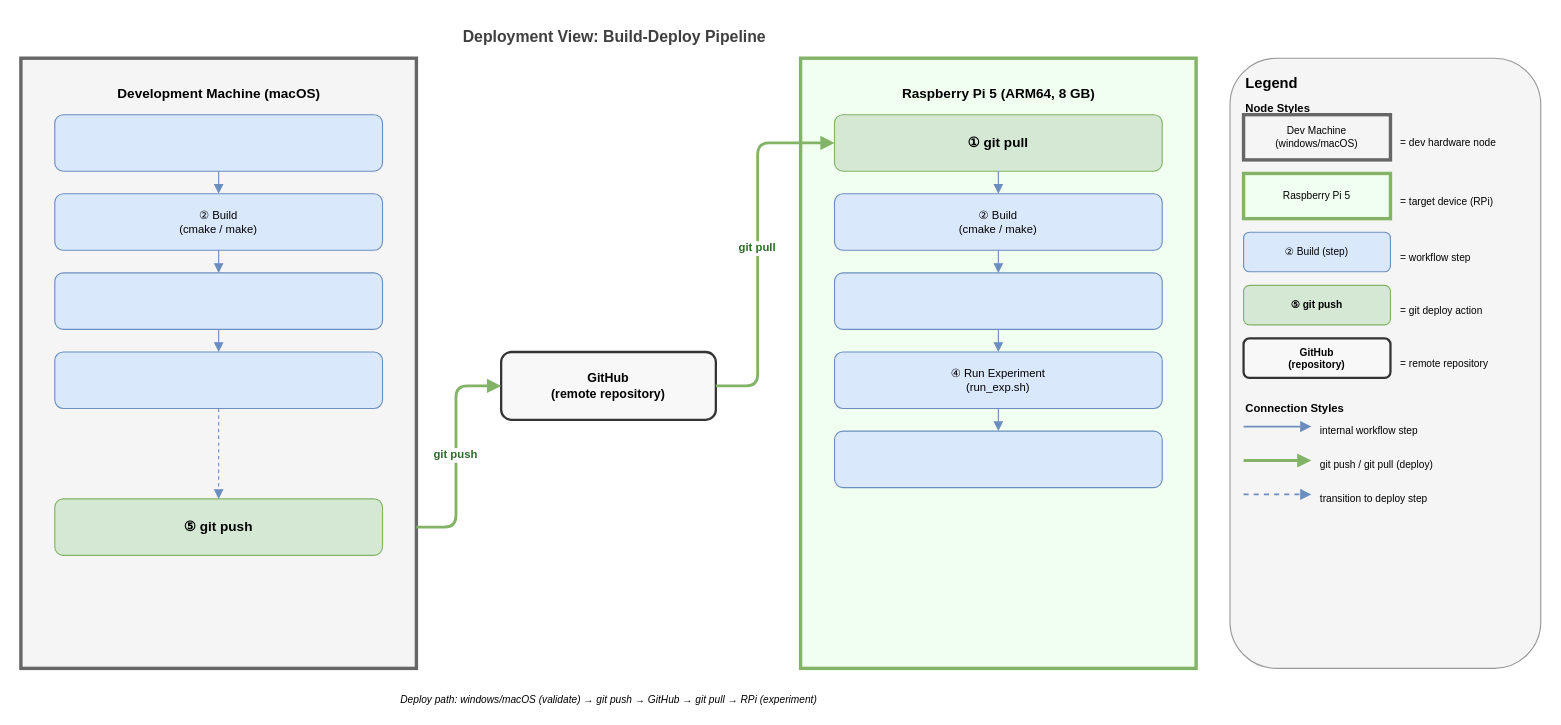
The diagram is 1561 pixels wide and 725 high, and some of its shapes have lost their labels. The shapes that lost their labels are listed below. From the top down, each one's centre as x and y in pixels, then its label:
At point 218,142: "① Write / Edit Code (Qt Creator / VSCode)".
At point 218,300: "③ Unit Test (ctest)".
At point 997,300: "③ Build Test (ctest)".
At point 218,379: "④ Run & Validate (macOS — structural correctness)".
At point 997,459: "⑤ Analyze Logs (analyze_log.py)".
